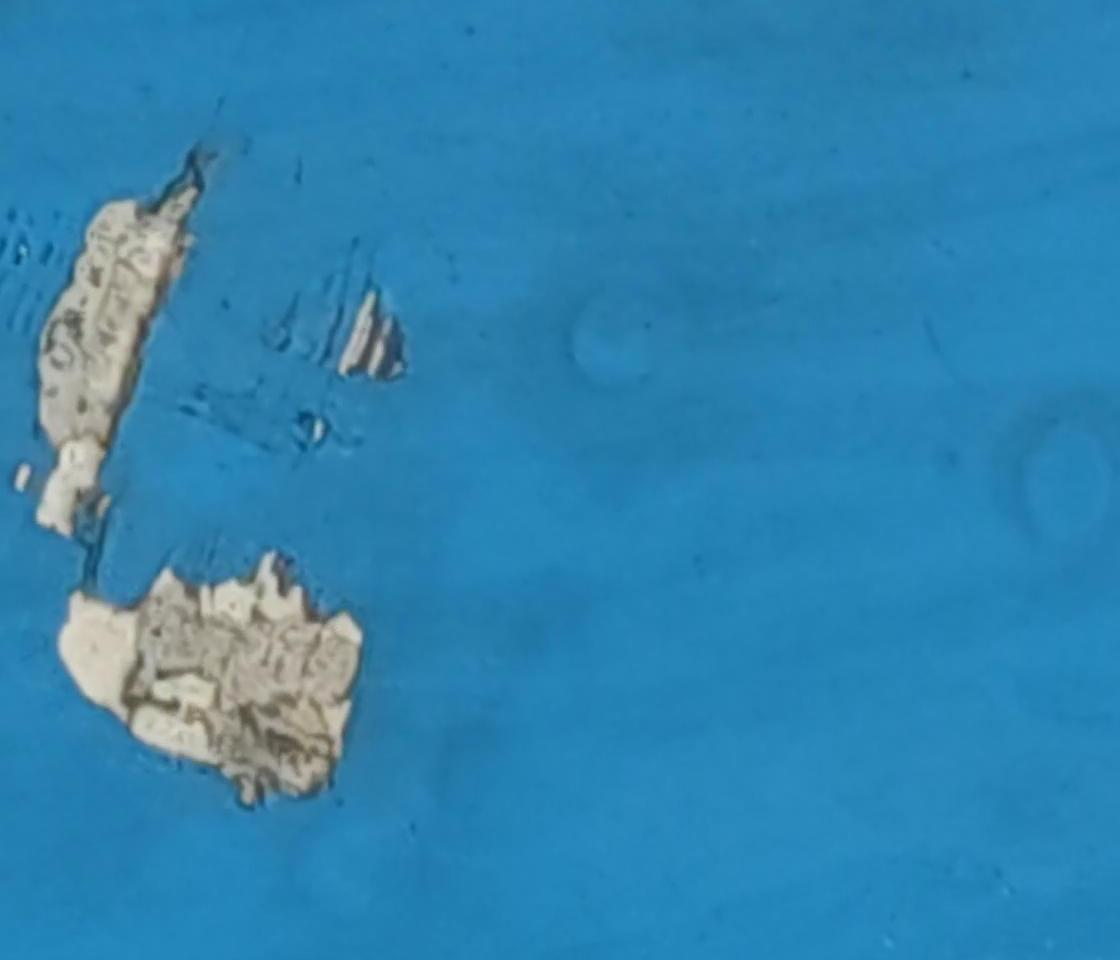paint_peel: (43, 562, 376, 814), (36, 149, 187, 544), (333, 278, 420, 391)
